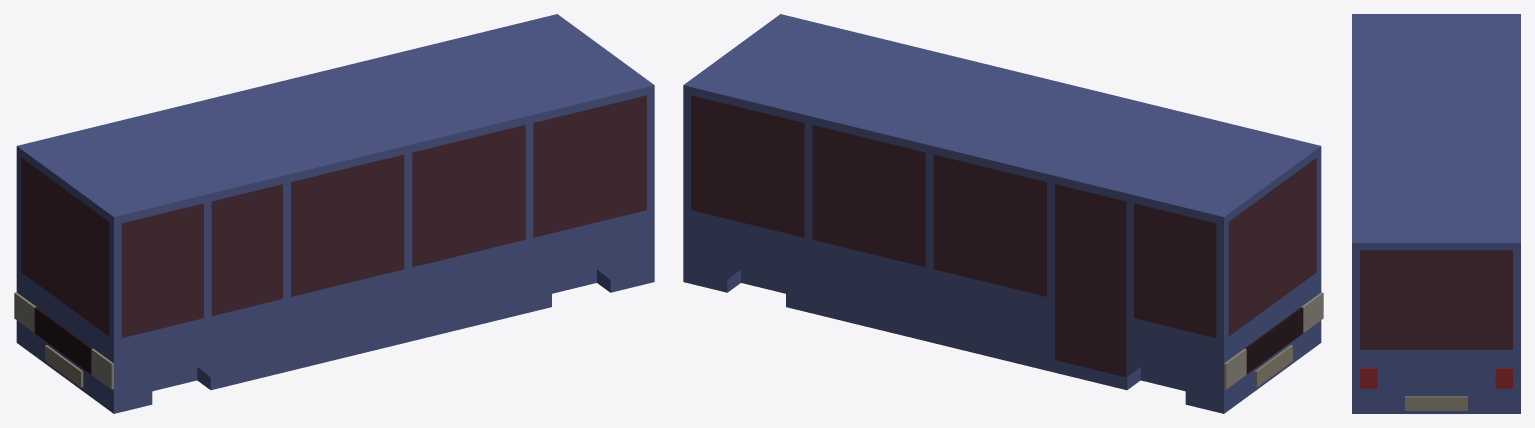
File: Bus_Blue.fbx
3 renders of one model, left to right at view 1: azimuth 30°, elevation 25°; view 2: azimuth 150°, elevation 25°; view 3: azimuth 270°, elevation 25°, orthographic. The views are drawn at different scales.
Visible parts, largest first — view 1: Bus_Blue, Bus_Lights; view 2: Bus_Blue, Bus_Lights; view 3: Bus_Blue, Bus_Lights.
Boxes of the visible parts, x1,y1,x2,y2 form: Bus_Blue: (16, 14, 654, 413); Bus_Lights: (14, 292, 113, 389); Bus_Blue: (683, 14, 1321, 413); Bus_Lights: (1224, 292, 1323, 389); Bus_Blue: (1352, 14, 1520, 413); Bus_Lights: (1360, 367, 1512, 388).
Size of the model in its own units: 6.96 by 2.4 by 2.15.
